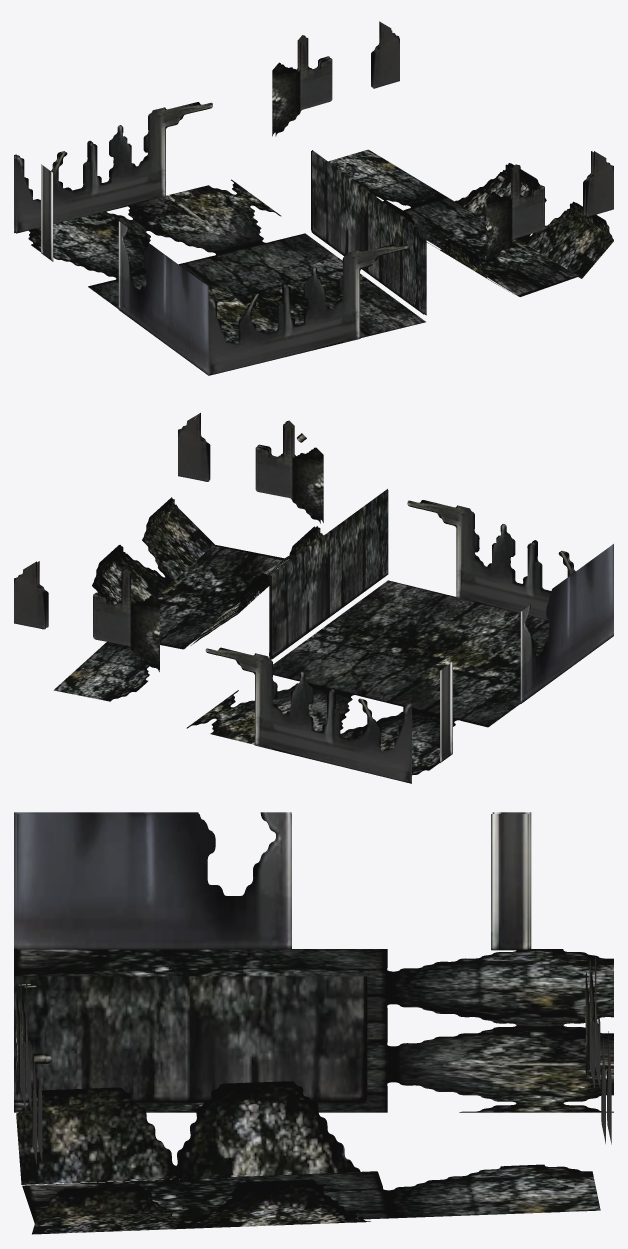
File: valvestation_dam_hdtex.glb
3 renders of one model, top to bottom at view 1: azimuth 30°, elevation 25°; view 2: azimuth 150°, elevation 25°; view 3: azimuth 270°, elevation 25°, orthographic. The views are drawn at different scales.
Visible parts, largest first — view 1: ValveStation; view 2: ValveStation; view 3: ValveStation.
Part boxes in pixels (x1=…): ValveStation: x1=14, y1=21, x2=613, y2=375; ValveStation: x1=14, y1=413, x2=613, y2=783; ValveStation: x1=14, y1=812, x2=613, y2=1234.
Size of the model in its own units: 13.81 by 4.33 by 11.28.
1 material, 1 textured.
